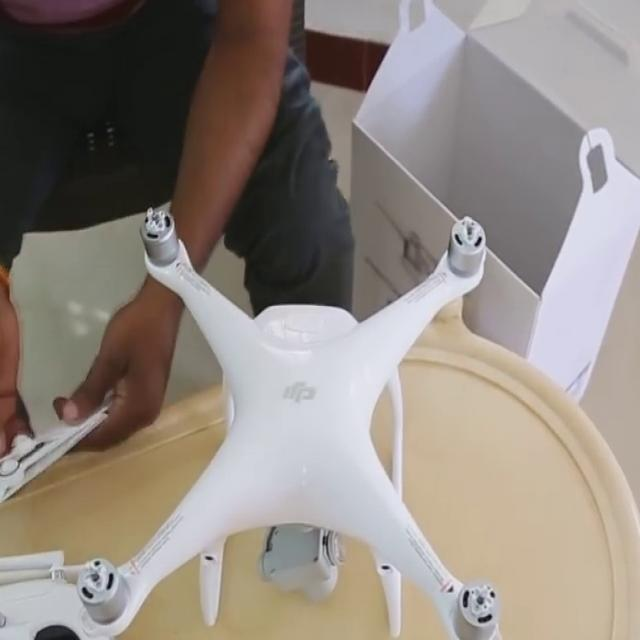drone: (66, 203, 527, 640)
